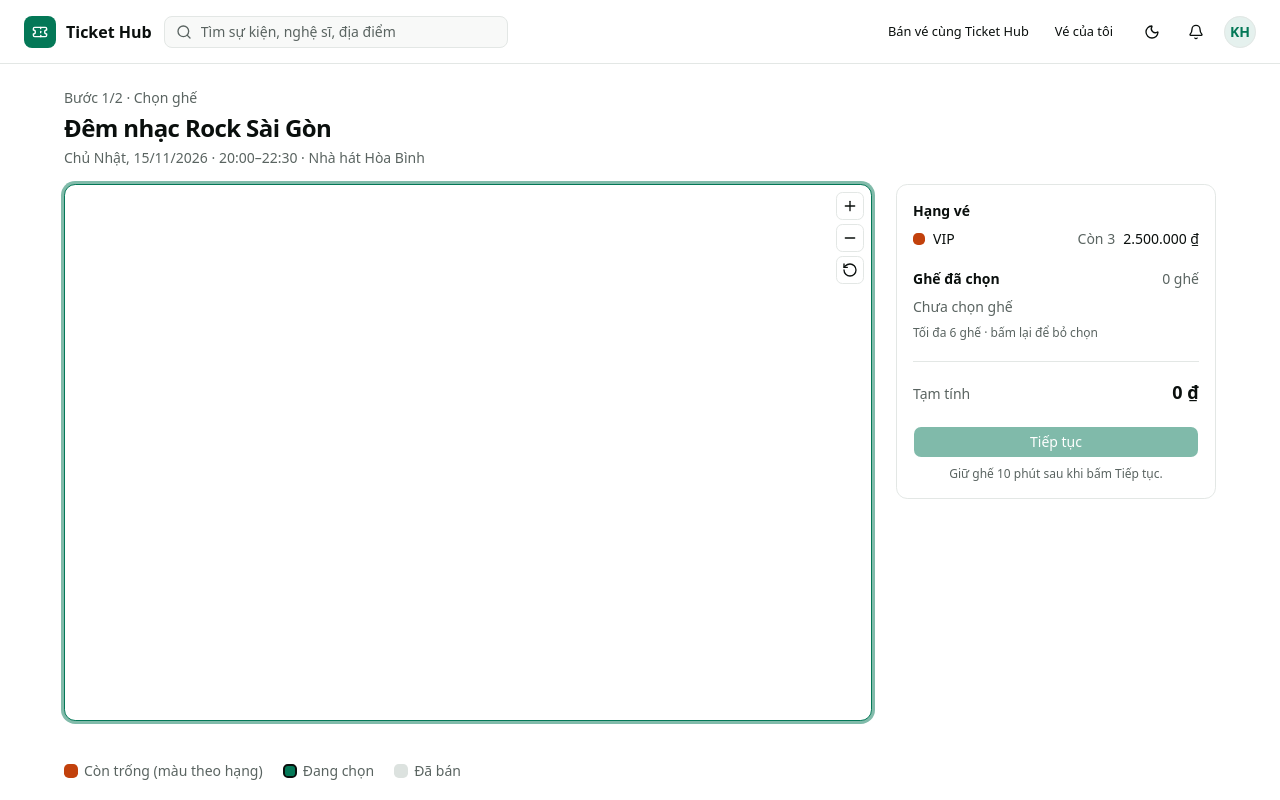
Test case: giữ ghế (AC-6, AC-7) › bấm Tiếp tục gửi POST /bookings kèm Idempotency-Key rồi chuyển sang màn giữ ghế
Step 1. Press Home Enter
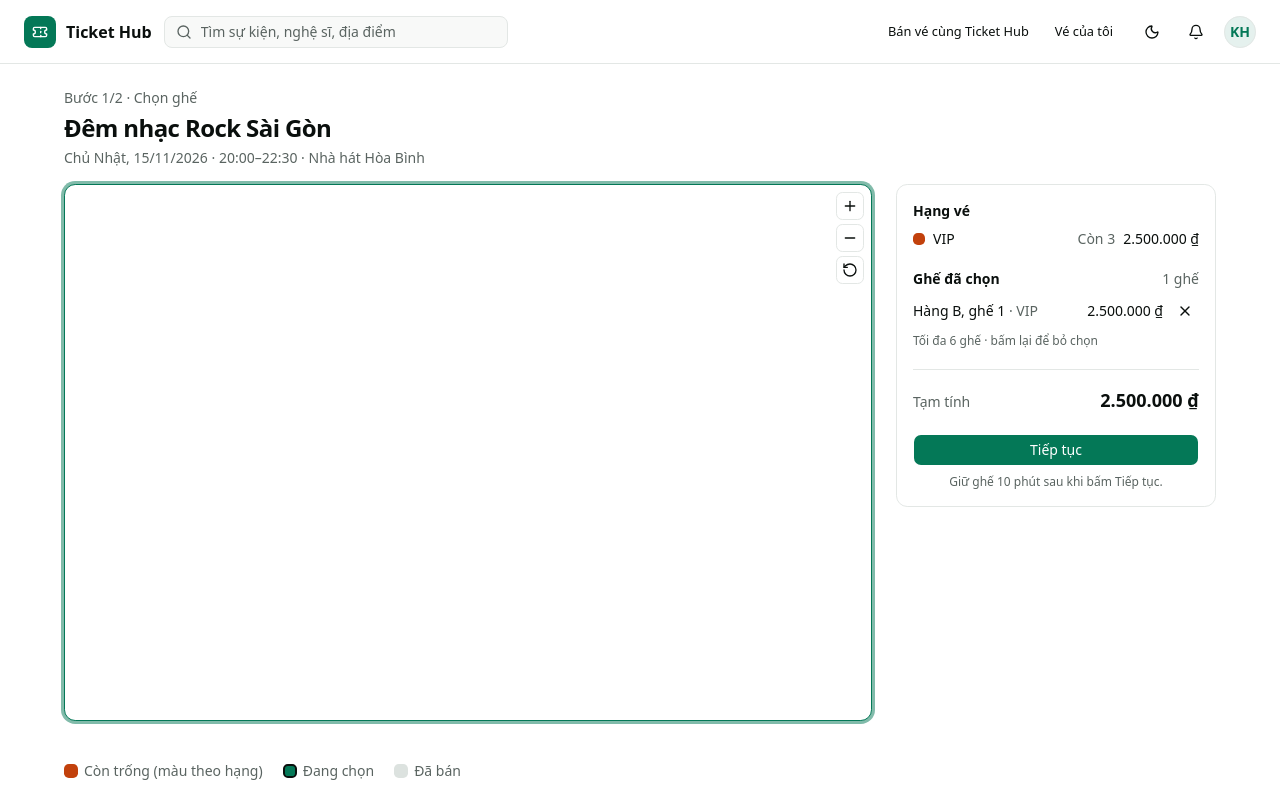
Check: the button named "Bỏ chọn Hàng B, ghế 1" is shown, box [1171,297,1199,325]
Step 2. Click the button "Tiếp tục" → point(1056, 450), box [913,434,1199,466]
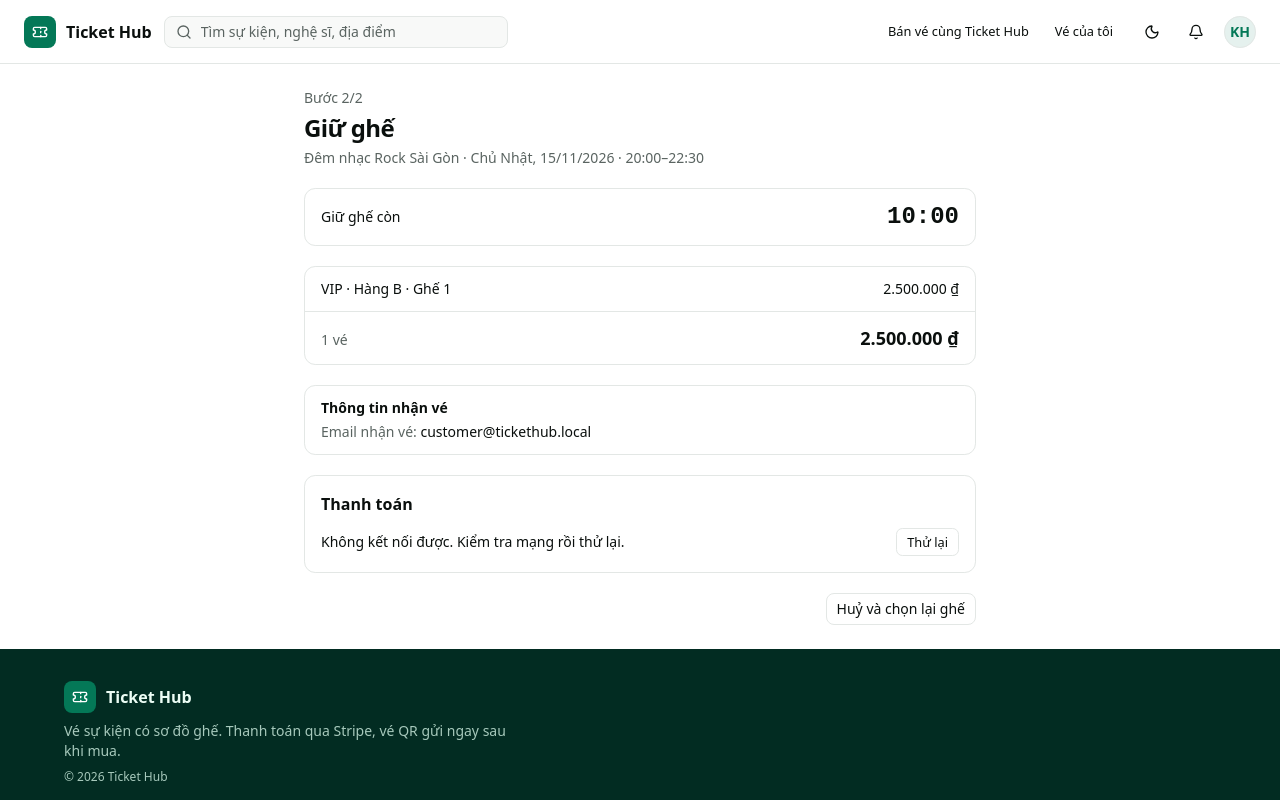
Check: the text "10:00" is shown, box [887,201,959,233]
